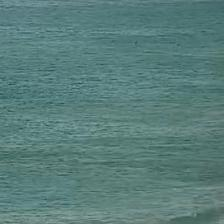surfer: (133, 40, 138, 45), (176, 43, 181, 47)
